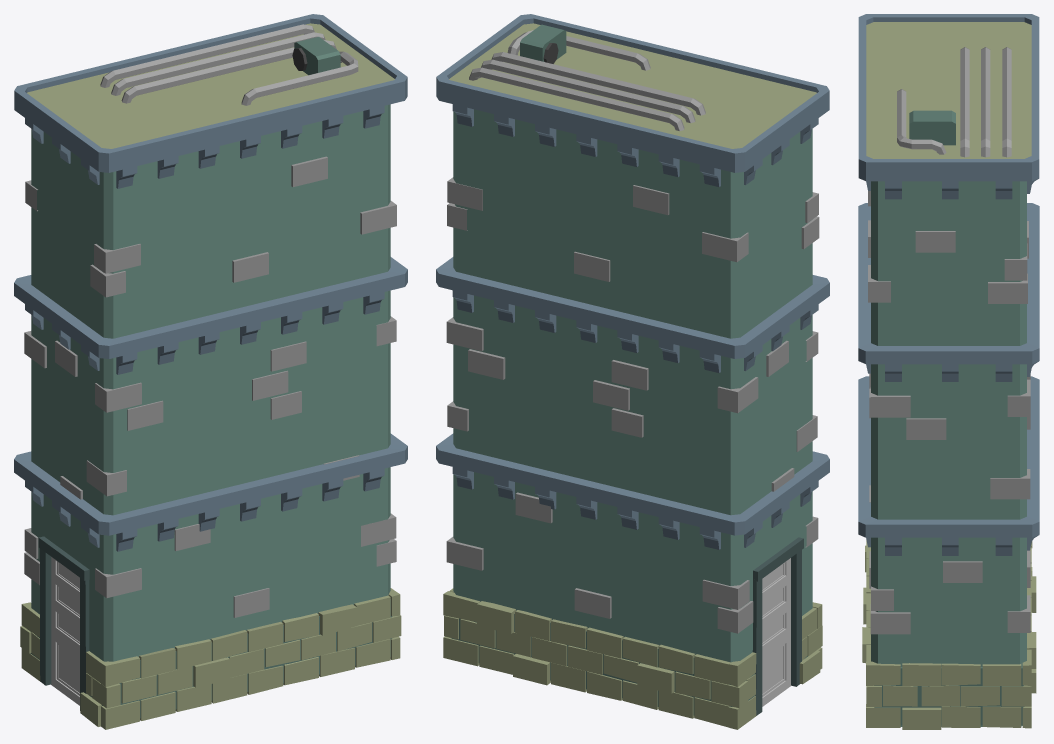
The model's file is Building2_Env.fbx.
3 views of the same model, side by side, from view 1: azimuth 30°, elevation 25°; view 2: azimuth 150°, elevation 25°; view 3: azimuth 270°, elevation 25° (orthographic).
Visible parts, largest first — view 1: 3Story_Slim_Mat.003; view 2: 3Story_Slim_Mat.003; view 3: 3Story_Slim_Mat.003.
Boxes of the visible parts, box(x1,y1,x2,y2) form: 3Story_Slim_Mat.003: box(14, 14, 407, 729); 3Story_Slim_Mat.003: box(436, 14, 829, 729); 3Story_Slim_Mat.003: box(858, 14, 1039, 729).
Bounding box in the file's own units: 215 × 399 × 112.
